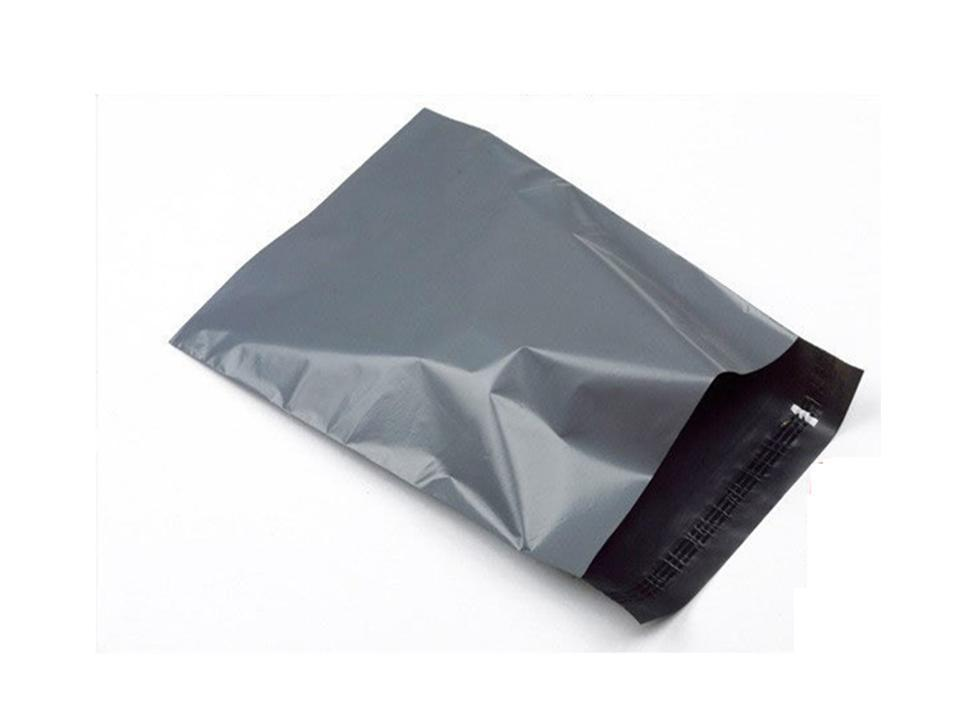Parcel: (173, 110, 858, 610)
